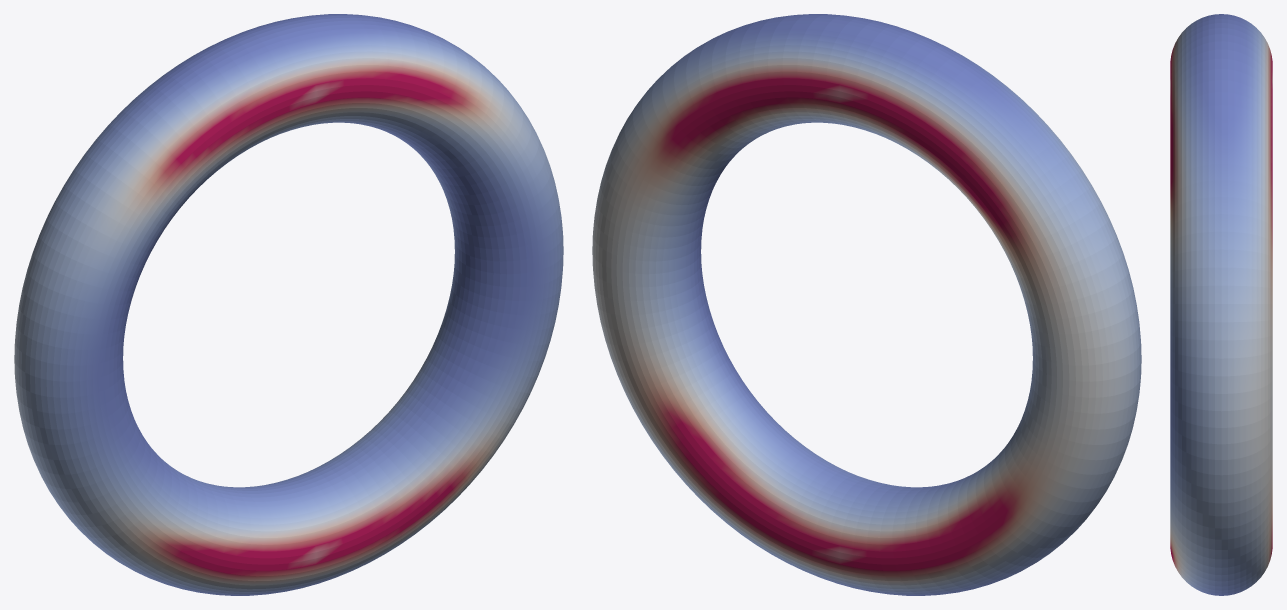
The picture shows the model from 3 angles, left to right: view 1: azimuth 30°, elevation 25°; view 2: azimuth 150°, elevation 25°; view 3: azimuth 270°, elevation 25°; orthographic projection. The views are drawn at different scales.
Visible parts, largest first — view 1: world; view 2: world; view 3: world.
Part boxes in pixels (<box>): world: <box>14,14,563,595</box>; world: <box>592,14,1141,595</box>; world: <box>1170,14,1272,595</box>.
Bounding box in the file's own units: 23.47 × 23.47 × 4.13.
